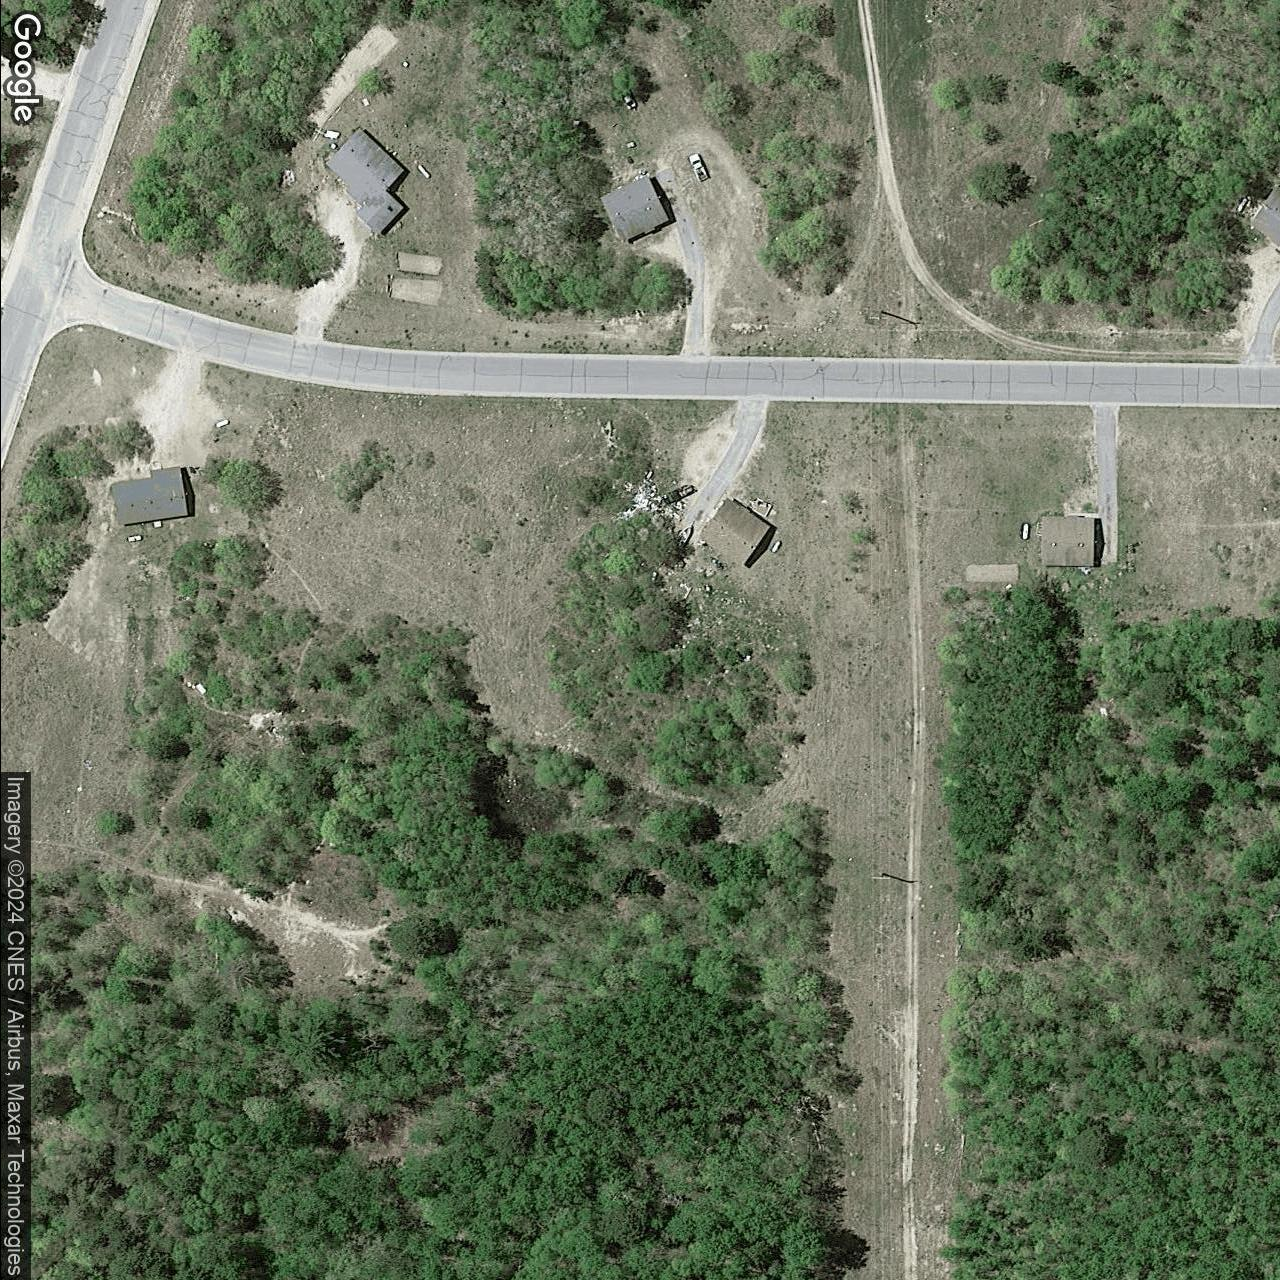House: (325, 125, 404, 239), (696, 499, 770, 568), (599, 173, 668, 245), (110, 467, 190, 526), (1039, 513, 1095, 567), (1250, 182, 1280, 251)
Propane: (414, 162, 433, 181), (1233, 196, 1250, 215), (1019, 520, 1030, 543), (213, 418, 232, 431), (124, 535, 144, 545), (770, 539, 782, 554)
